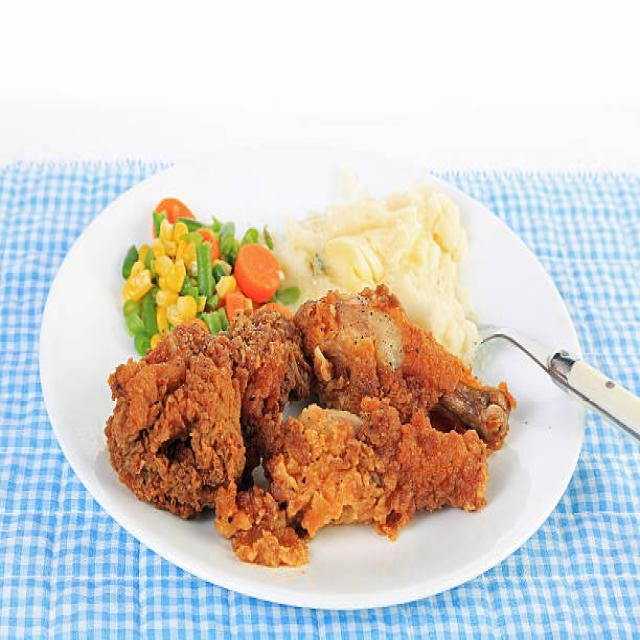Frango: (104, 274, 516, 571)
